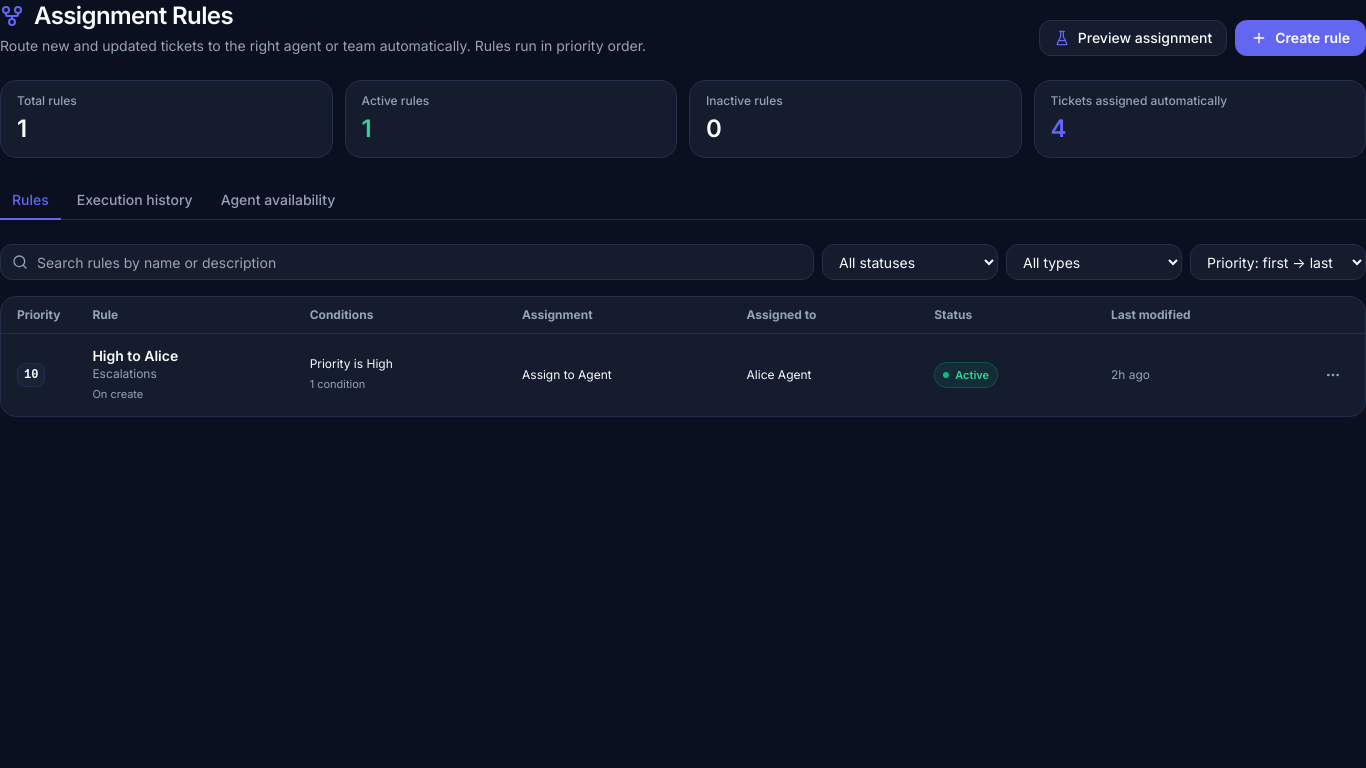
AssignmentRulesPage › validates the editor inline and shows server errors on the right field
Expected: the button "High to Alice" is shown, [92,346,178,366]
Step 1. Click the button "Create rule" → coordinates (1301, 38), box [1235,20,1365,56]
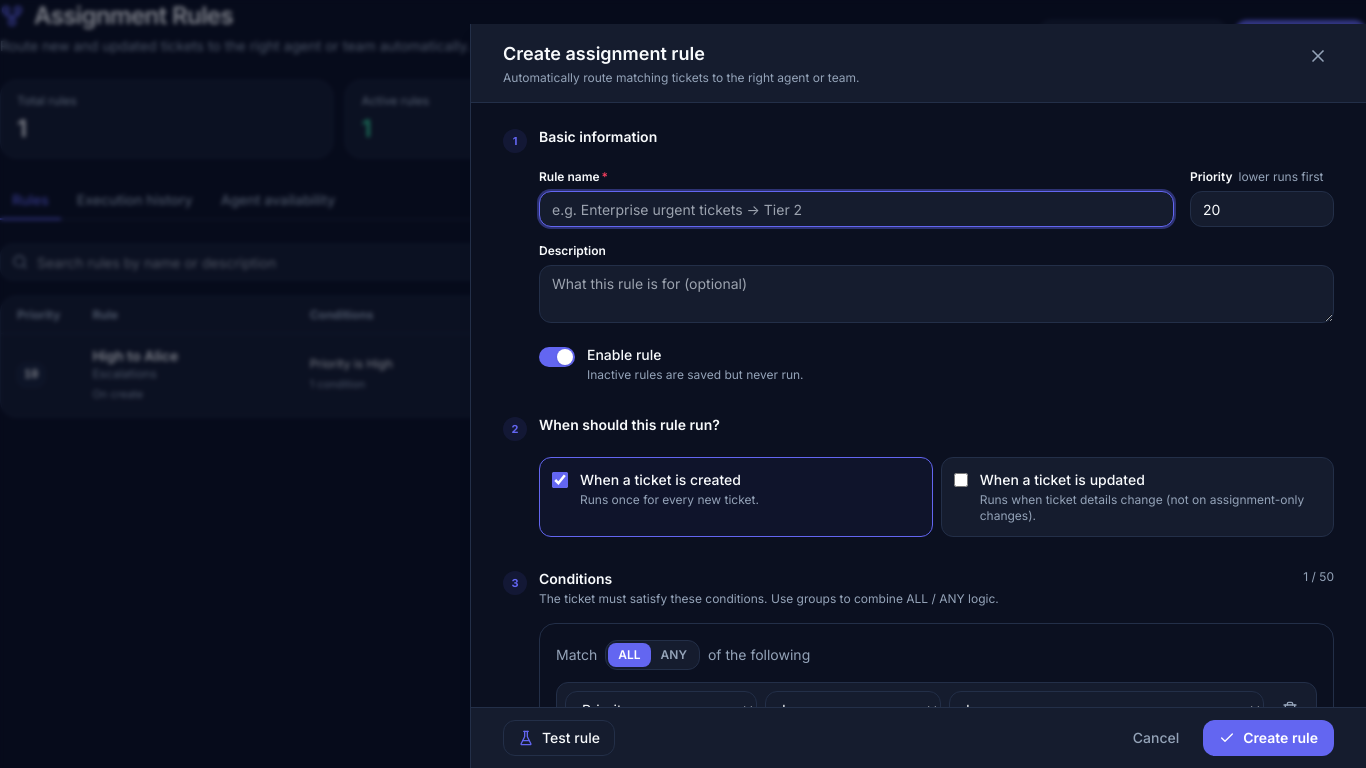
Step 2. Click the button "Create rule" → coordinates (1269, 738), box [1203,720,1334,756]
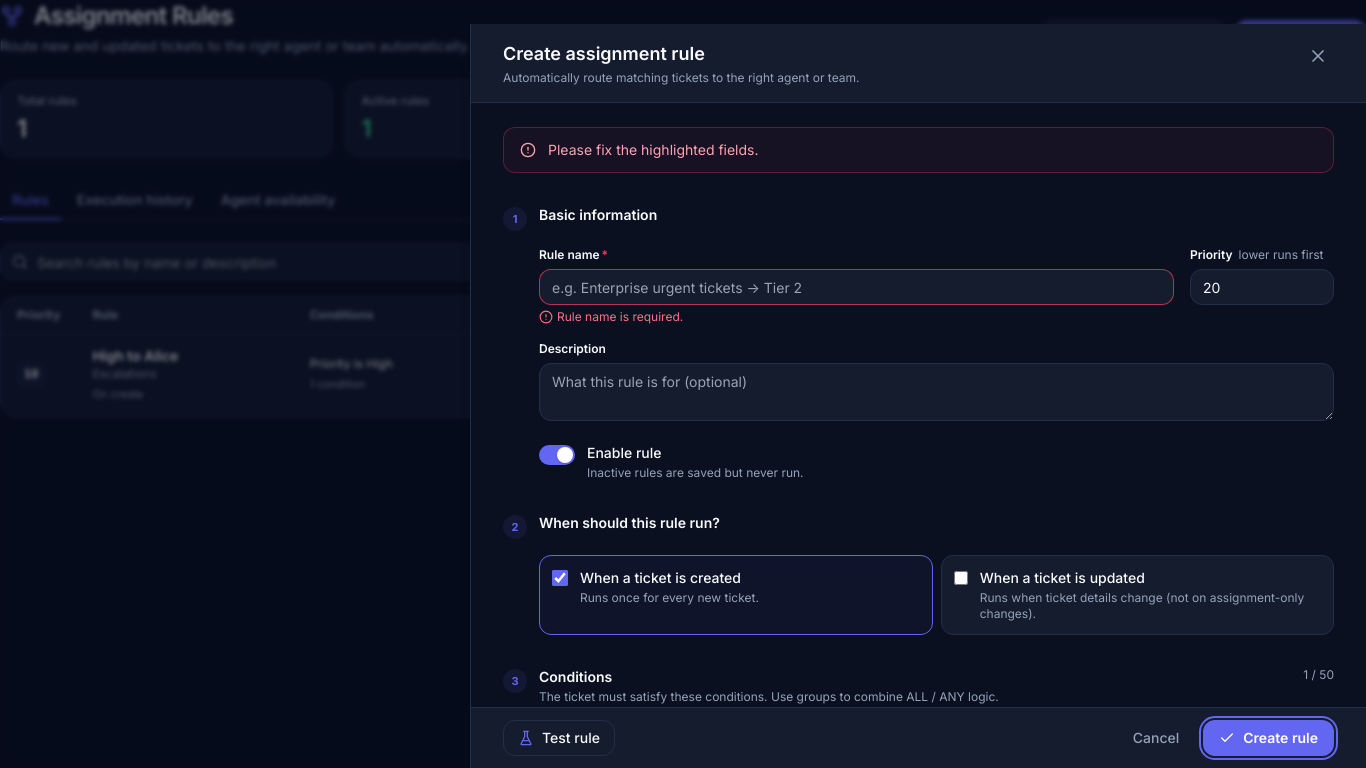
Result: the text "Rule name is required." is shown at [539,309,683,324]
Step 3. Type "New rule" into the field labelled "Rule name*" → coordinates (856, 287), box [539,269,1174,305]
(page scrolled)
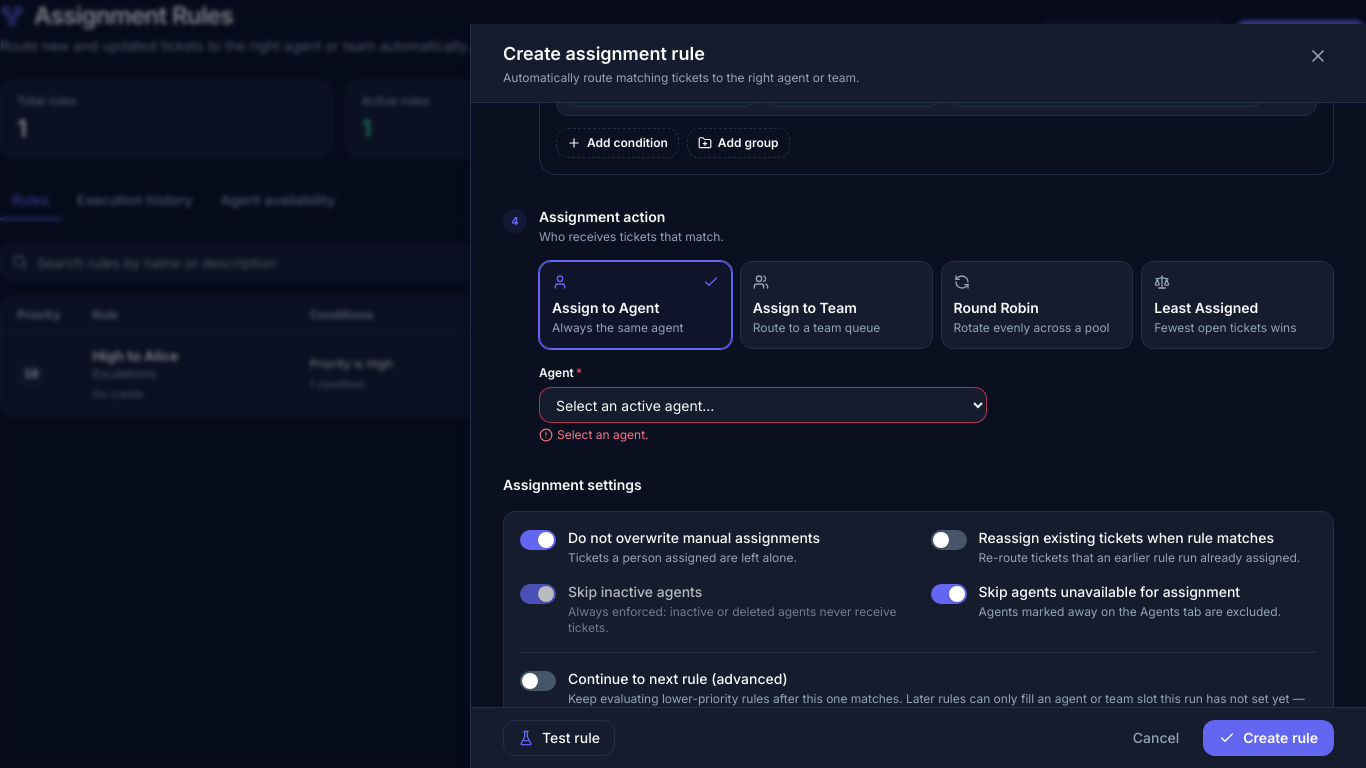
Step 4. Select "Alice Agent · 2 open" in the dropdown labelled "Agent*" → coordinates (763, 405), box [539,387,987,423]
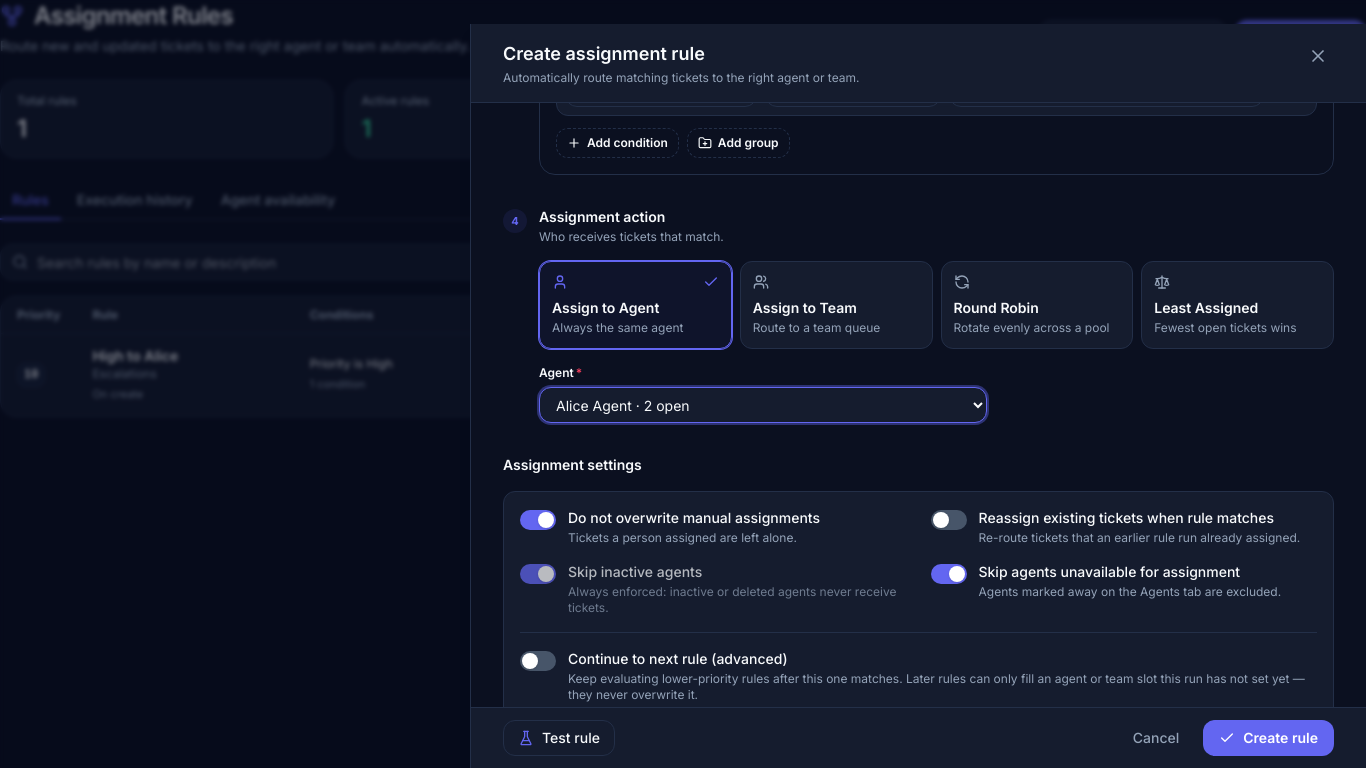
Step 5. Click the button "Create rule" → coordinates (1269, 738), box [1203,720,1334,756]
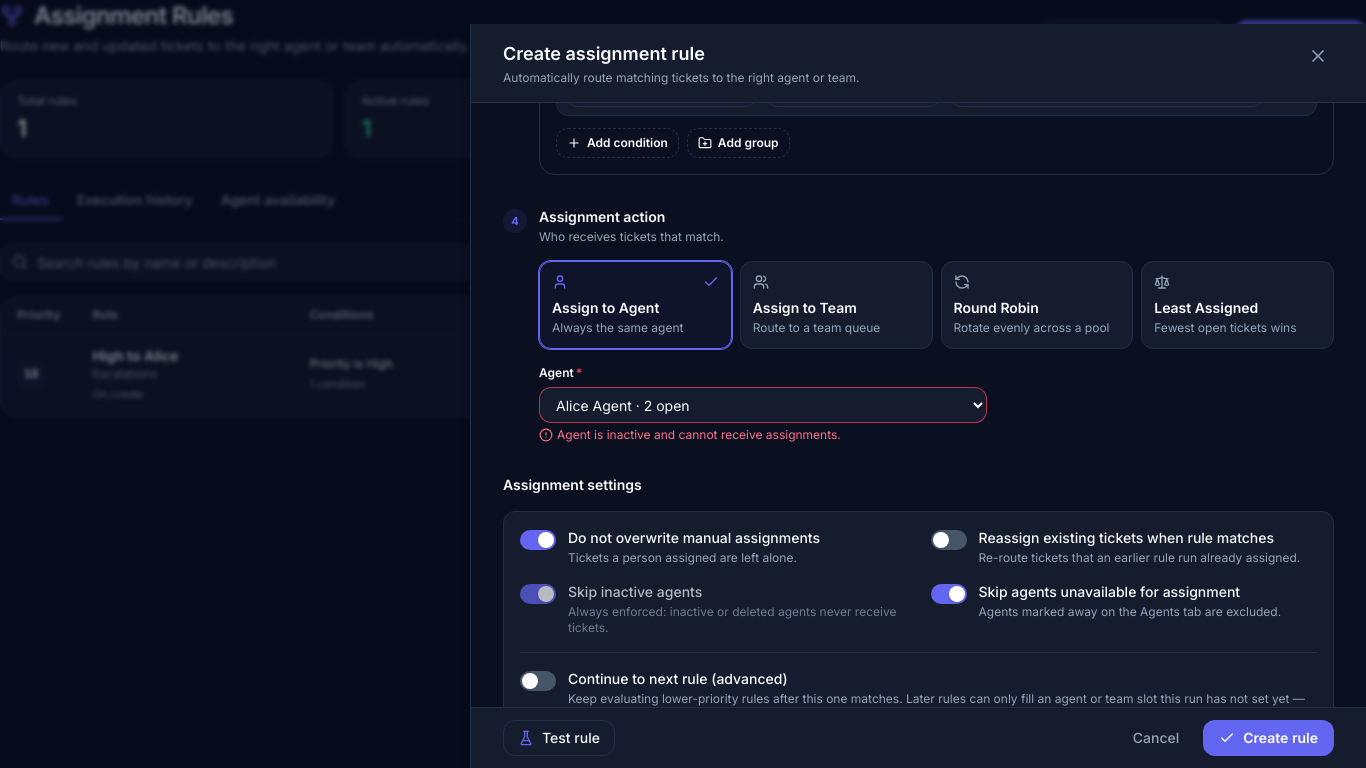
Result: the text "Agent is inactive and cannot receive assignments." is shown at [539,427,841,442]
